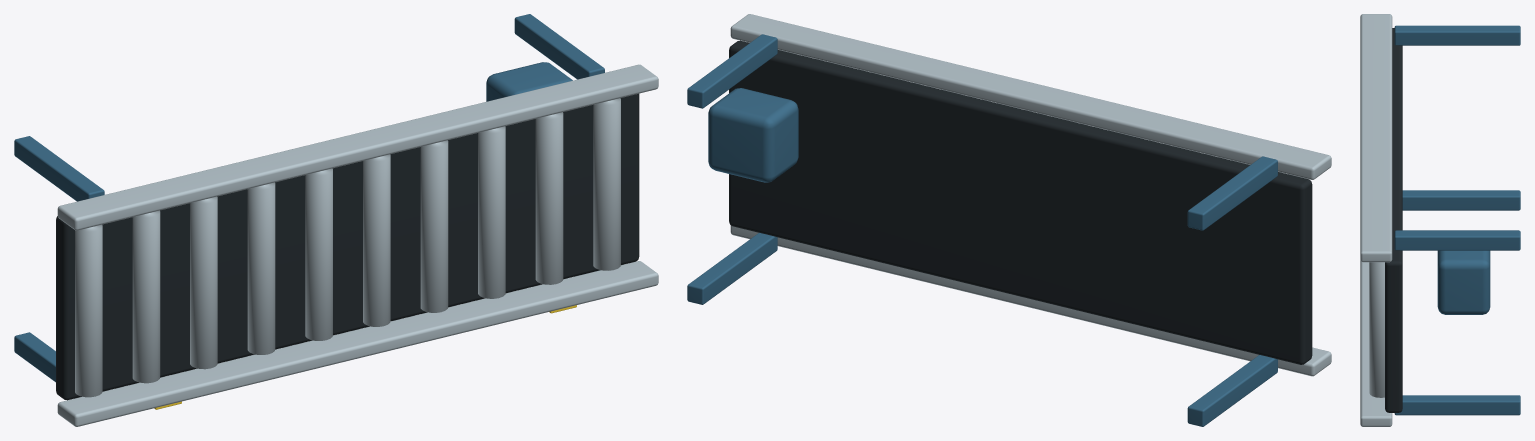
File: hero_conveyor.glb
3 views of the same model, side by side, from view 1: azimuth 30°, elevation 25°; view 2: azimuth 150°, elevation 25°; view 3: azimuth 270°, elevation 25° (orthographic). The views are drawn at different scales.
Visible parts, largest first — view 1: Conveyor rubber belt, Conveyor guide rail.001, Conveyor guide rail, Steel idler roller.006, Steel idler roller.001, Steel idler roller.003, Steel idler roller.008, Steel idler roller, Steel idler roller.009, Steel idler roller.007, Steel idler roller.005, Steel idler roller.002 (+5 smaller); view 2: Conveyor rubber belt, Conveyor guide rail.001, Conveyor motor housing, Conveyor guide rail, Conveyor vertical support.003, Conveyor vertical support.002, Conveyor vertical support.001, Conveyor vertical support; view 3: Conveyor guide rail.001, Conveyor rubber belt, Conveyor motor housing, Conveyor vertical support.003, Conveyor vertical support.002, Conveyor vertical support.001, Conveyor vertical support, Conveyor guide rail, Steel idler roller.009.
Boxes of the visible parts, x1=… form: Conveyor rubber belt: x1=56, y1=93, x2=639, y2=400; Conveyor guide rail.001: x1=57, y1=64, x2=658, y2=230; Conveyor guide rail: x1=57, y1=261, x2=658, y2=426; Steel idler roller.006: x1=420, y1=140, x2=448, y2=312; Steel idler roller.001: x1=132, y1=210, x2=160, y2=383; Steel idler roller.003: x1=247, y1=182, x2=275, y2=354; Steel idler roller.008: x1=535, y1=112, x2=563, y2=284; Steel idler roller: x1=75, y1=224, x2=102, y2=397; Steel idler roller.009: x1=593, y1=98, x2=620, y2=270; Steel idler roller.007: x1=478, y1=126, x2=505, y2=298; Steel idler roller.005: x1=363, y1=154, x2=390, y2=326; Steel idler roller.002: x1=190, y1=196, x2=217, y2=369; Conveyor rubber belt: x1=729, y1=40, x2=1312, y2=364; Conveyor guide rail.001: x1=730, y1=14, x2=1331, y2=179; Conveyor motor housing: x1=708, y1=88, x2=798, y2=182; Conveyor guide rail: x1=730, y1=225, x2=1331, y2=376; Conveyor vertical support.003: x1=687, y1=34, x2=777, y2=108; Conveyor vertical support.002: x1=1187, y1=156, x2=1277, y2=230; Conveyor vertical support.001: x1=687, y1=232, x2=777, y2=304; Conveyor vertical support: x1=1187, y1=355, x2=1277, y2=426; Conveyor guide rail.001: x1=1360, y1=14, x2=1392, y2=262; Conveyor rubber belt: x1=1385, y1=28, x2=1402, y2=412; Conveyor motor housing: x1=1437, y1=250, x2=1490, y2=314; Conveyor vertical support.003: x1=1394, y1=230, x2=1520, y2=250; Conveyor vertical support.002: x1=1394, y1=25, x2=1520, y2=45; Conveyor vertical support.001: x1=1394, y1=395, x2=1520, y2=415; Conveyor vertical support: x1=1402, y1=190, x2=1520, y2=210; Conveyor guide rail: x1=1360, y1=260, x2=1392, y2=426; Steel idler roller.009: x1=1369, y1=262, x2=1384, y2=397.
Bounding box in the file's own units: 3.55 × 1.24 × 1.01.
